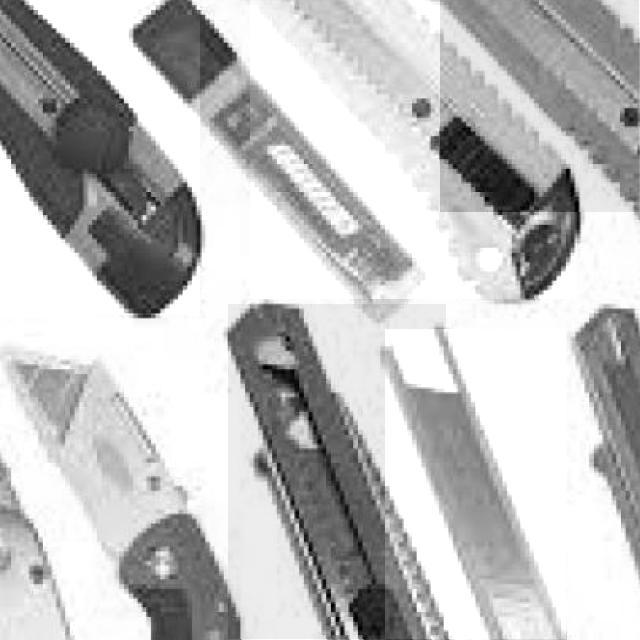estilete: (251, 0, 577, 299), (229, 305, 446, 640), (385, 329, 566, 640), (441, 0, 639, 211)
